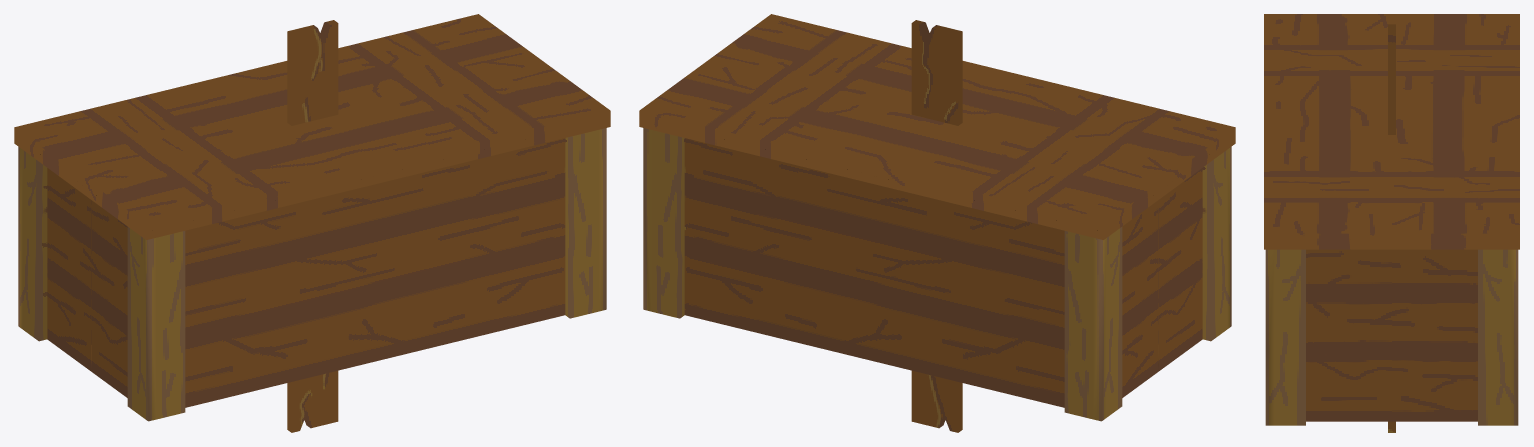
File: caduProducts.glb
The picture shows the model from 3 angles, left to right: view 1: azimuth 30°, elevation 25°; view 2: azimuth 150°, elevation 25°; view 3: azimuth 270°, elevation 25°; orthographic projection. The views are drawn at different scales.
Parts seen in each view (by area): view 1: grate, grateLid, plank; view 2: grate, grateLid, plank; view 3: grateLid, grate, plank.
Boxes of the visible parts, bbox=[...] form: grate: bbox=[18, 128, 606, 421]; grateLid: bbox=[14, 14, 610, 239]; plank: bbox=[287, 20, 338, 432]; grate: bbox=[643, 128, 1231, 421]; grateLid: bbox=[639, 14, 1235, 239]; plank: bbox=[911, 20, 962, 432]; grateLid: bbox=[1264, 14, 1519, 249]; grate: bbox=[1265, 249, 1518, 425]; plank: bbox=[1388, 24, 1395, 432].
Size of the model in its own units: 1.11 by 0.9095 by 0.5455.
Materials: 2 (2 with a texture image).
